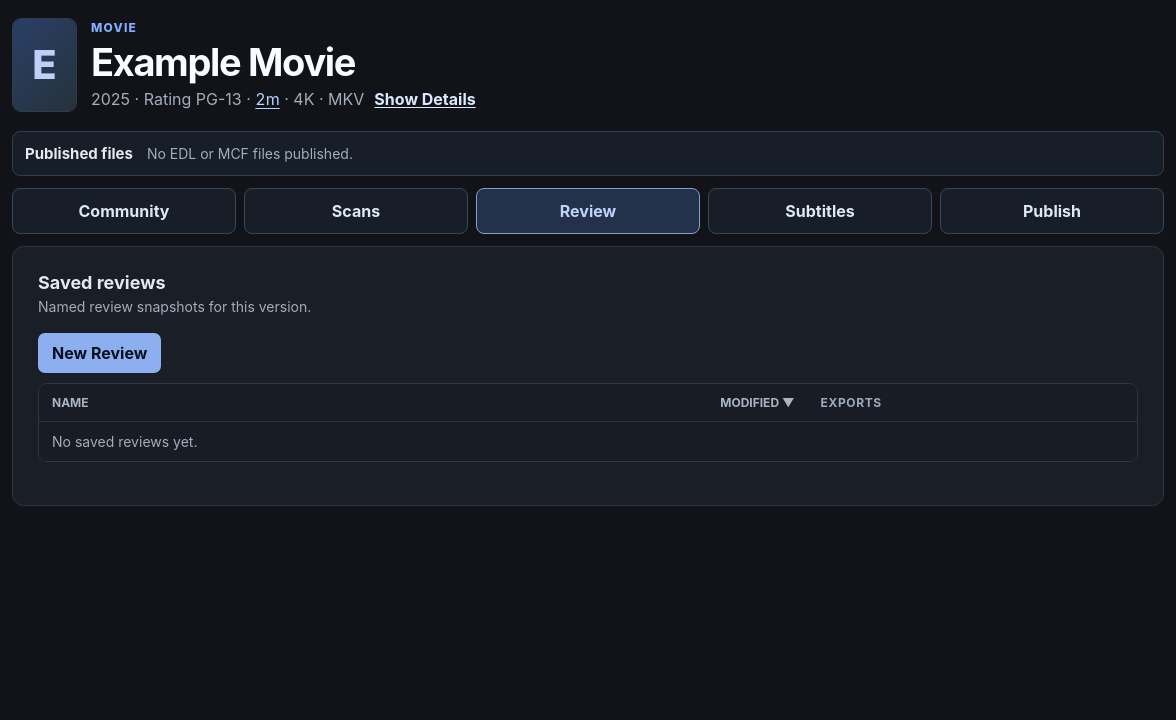
disables Recover Scans with an explanation when no local scan could be recovered
Click the tab "Scans".
click(356, 211)  # box [244,188,468,234]
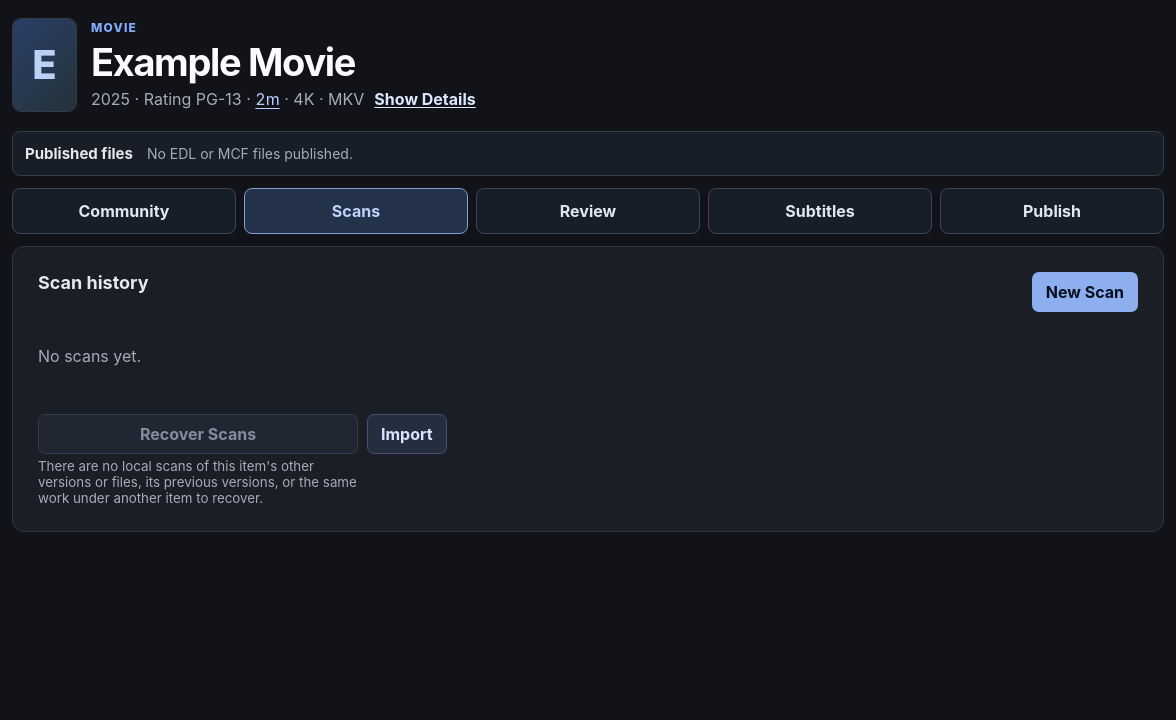
Expected: the button "Recover Scans" is disabled, [38,414,358,454]
